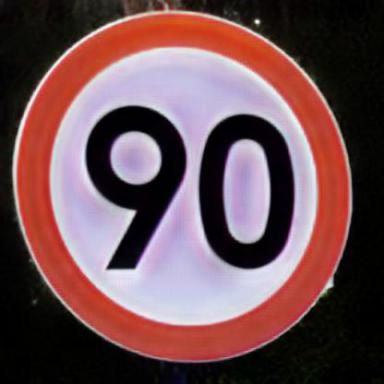Speed_limit_90: (16, 15, 352, 357)
